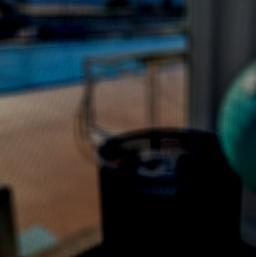algae: (219, 47, 256, 206)
